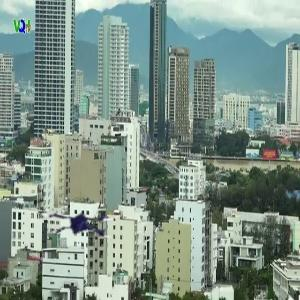drone: (44, 177, 124, 257)
